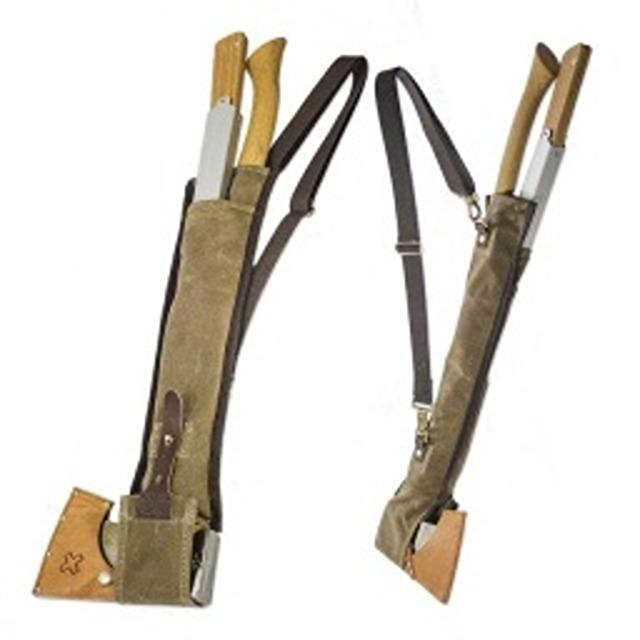ax: (20, 24, 295, 618), (362, 31, 606, 616)
